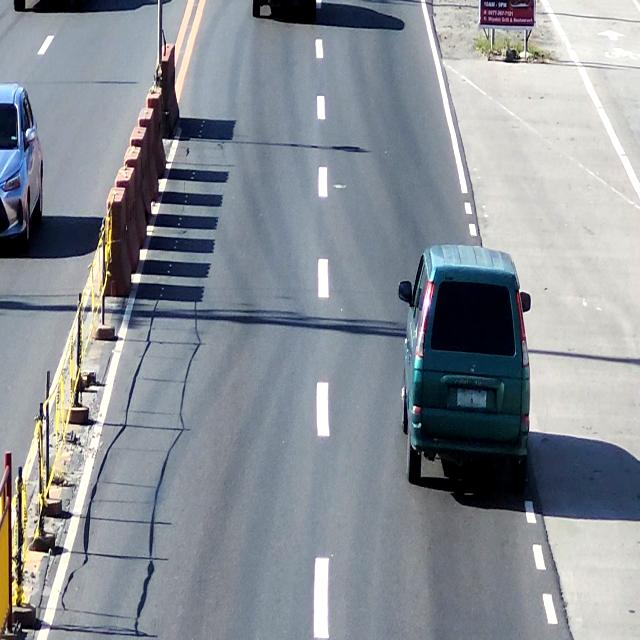Car: (403, 245, 534, 487)
License-Plate: (456, 382, 496, 416)
